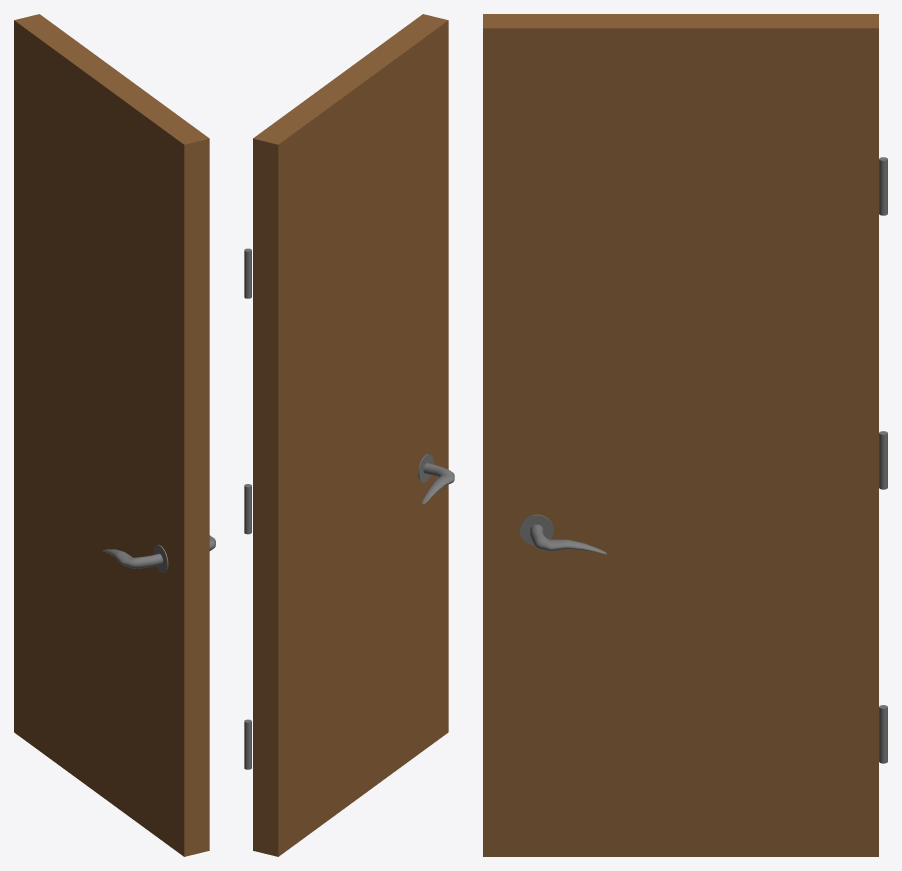
File: Door.fbx
3 views of the same model, side by side, from view 1: azimuth 30°, elevation 25°; view 2: azimuth 150°, elevation 25°; view 3: azimuth 270°, elevation 25° (orthographic). The views are drawn at different scales.
Visible parts, largest first — view 1: Door.003; view 2: Door.003; view 3: Door.003.
Part boxes in pixels (x1,y1,x2,y2): Door.003: [14, 14, 215, 856]; Door.003: [244, 14, 454, 856]; Door.003: [483, 14, 887, 856].
Bounding box in the file's own units: 0.3695 × 1.18 × 2.67.
